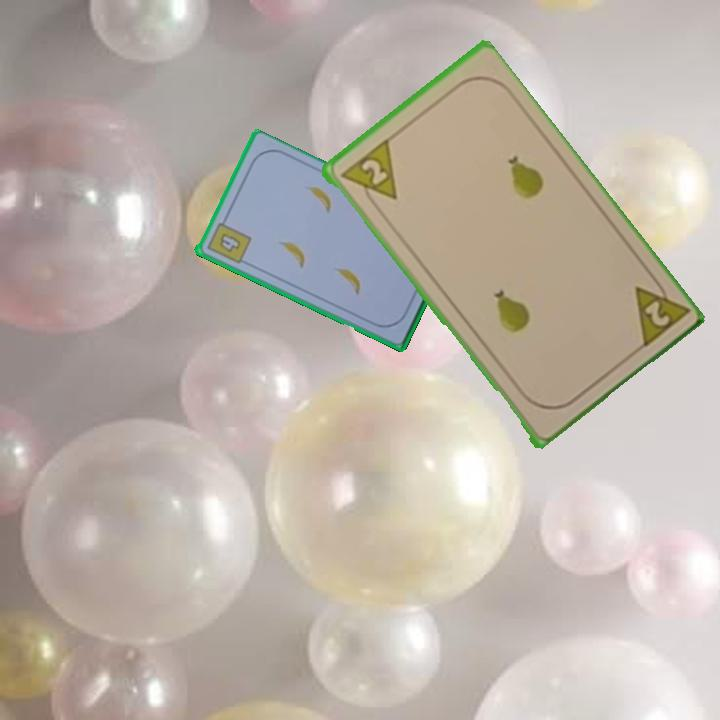2p: (630, 269, 690, 352), (336, 136, 400, 213)
4b: (203, 214, 253, 267)
